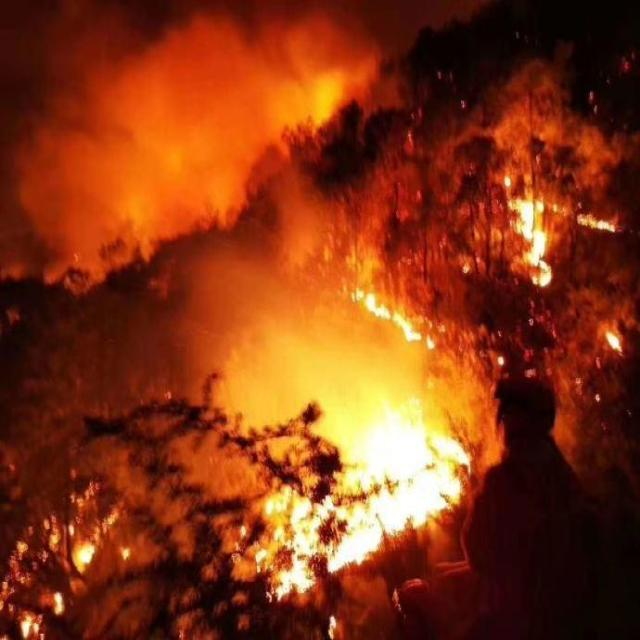fire: (262, 381, 467, 570), (487, 128, 618, 292), (9, 488, 136, 636), (331, 270, 446, 358), (577, 307, 627, 355)
smoke: (28, 20, 304, 242)
